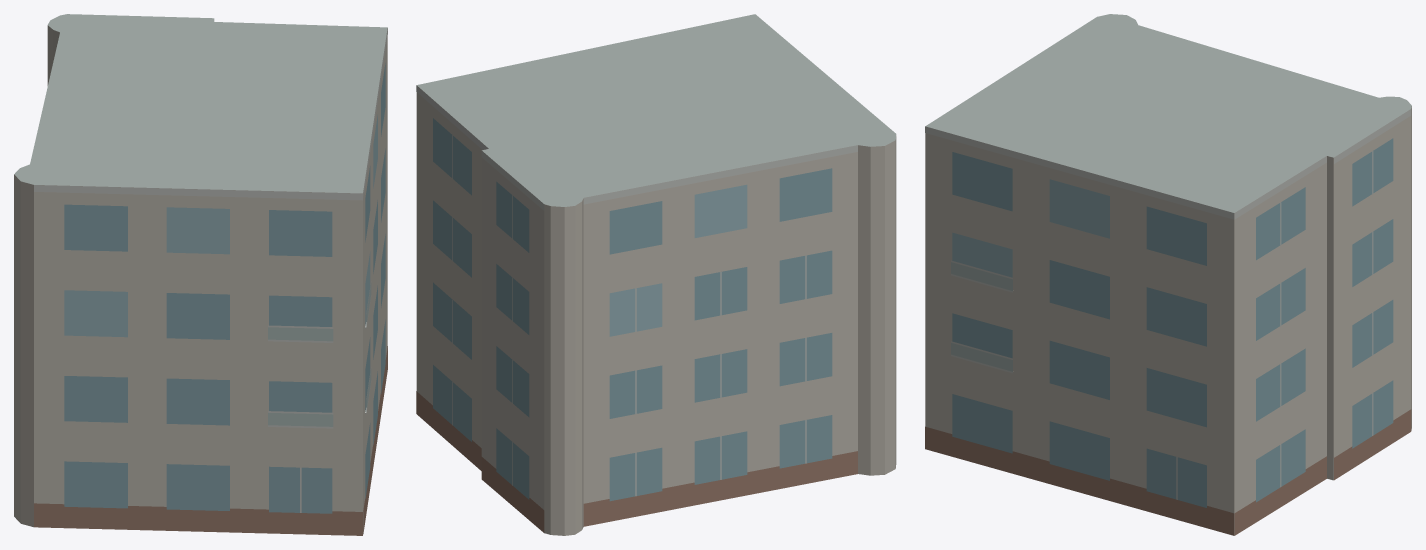
File: survey-upis-32940076.glb
3 views of the same model, side by side, from view 1: azimuth 30°, elevation 25°; view 2: azimuth 150°, elevation 25°; view 3: azimuth 270°, elevation 25° (orthographic). The views are drawn at different scales.
Visible parts, largest first — view 1: survey-upis-32940076.tmp; view 2: survey-upis-32940076.tmp; view 3: survey-upis-32940076.tmp.
Part boxes in pixels (x1=…): survey-upis-32940076.tmp: x1=14, y1=14, x2=387, y2=535; survey-upis-32940076.tmp: x1=416, y1=14, x2=896, y2=535; survey-upis-32940076.tmp: x1=925, y1=14, x2=1411, y2=535.
Size of the model in its own units: 15.68 by 11.85 by 16.2.
